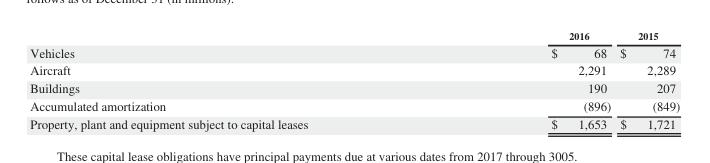table: (29, 28, 679, 131)
table column: (29, 28, 428, 131), (428, 28, 614, 131), (614, 28, 679, 131)
table column header: (29, 28, 679, 43)
table row: (29, 60, 679, 78), (29, 78, 679, 96), (29, 96, 679, 114), (29, 43, 679, 60), (29, 114, 679, 131), (29, 28, 679, 43)
